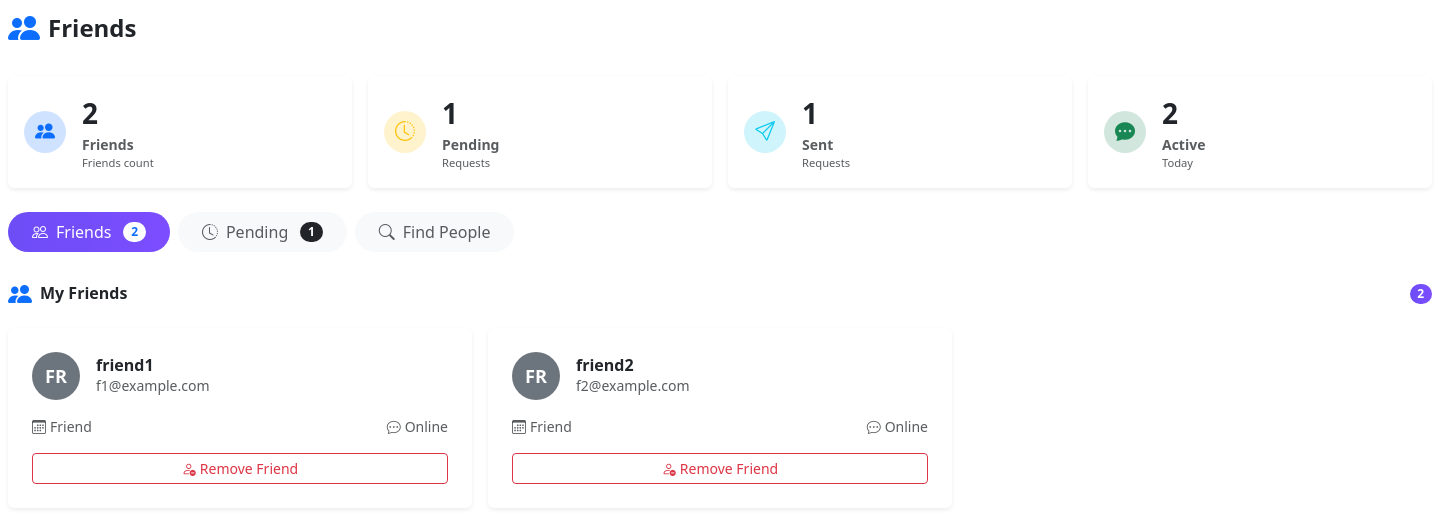
Scenario: FriendsPage › switches to pending tab
The image size is (1440, 527).
Click the button "Pending 1" at (262, 232), box [178,212,347,252]
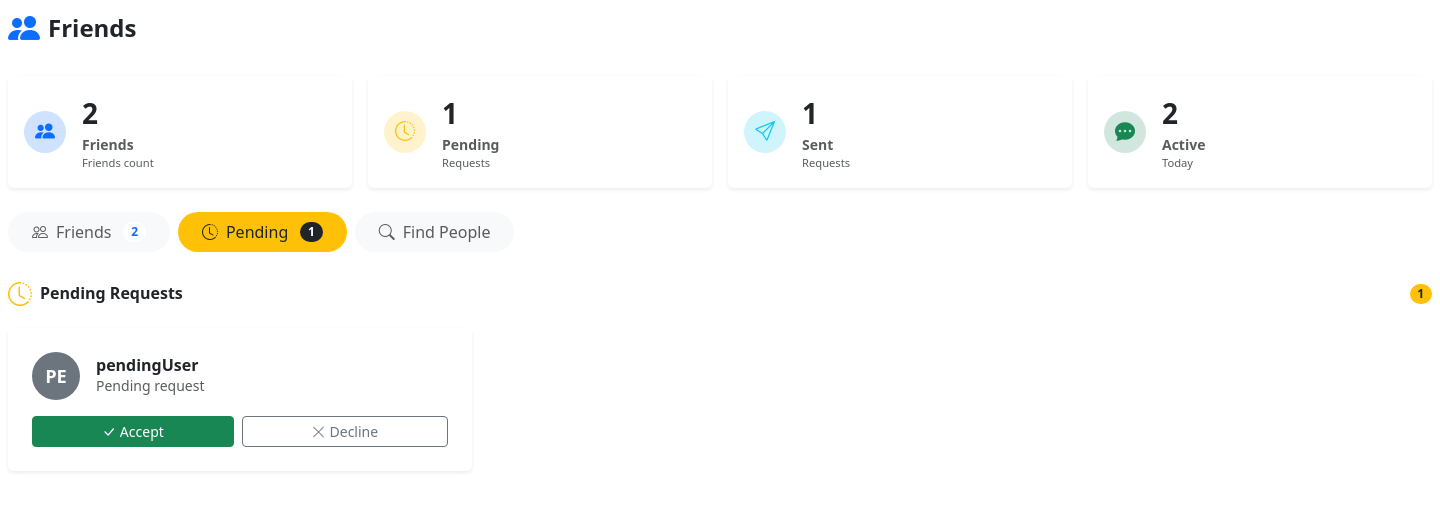
Result: the heading "Pending Requests" is shown at [40,284,183,303]
Result: the heading "pendingUser" is shown at [96,356,204,375]
